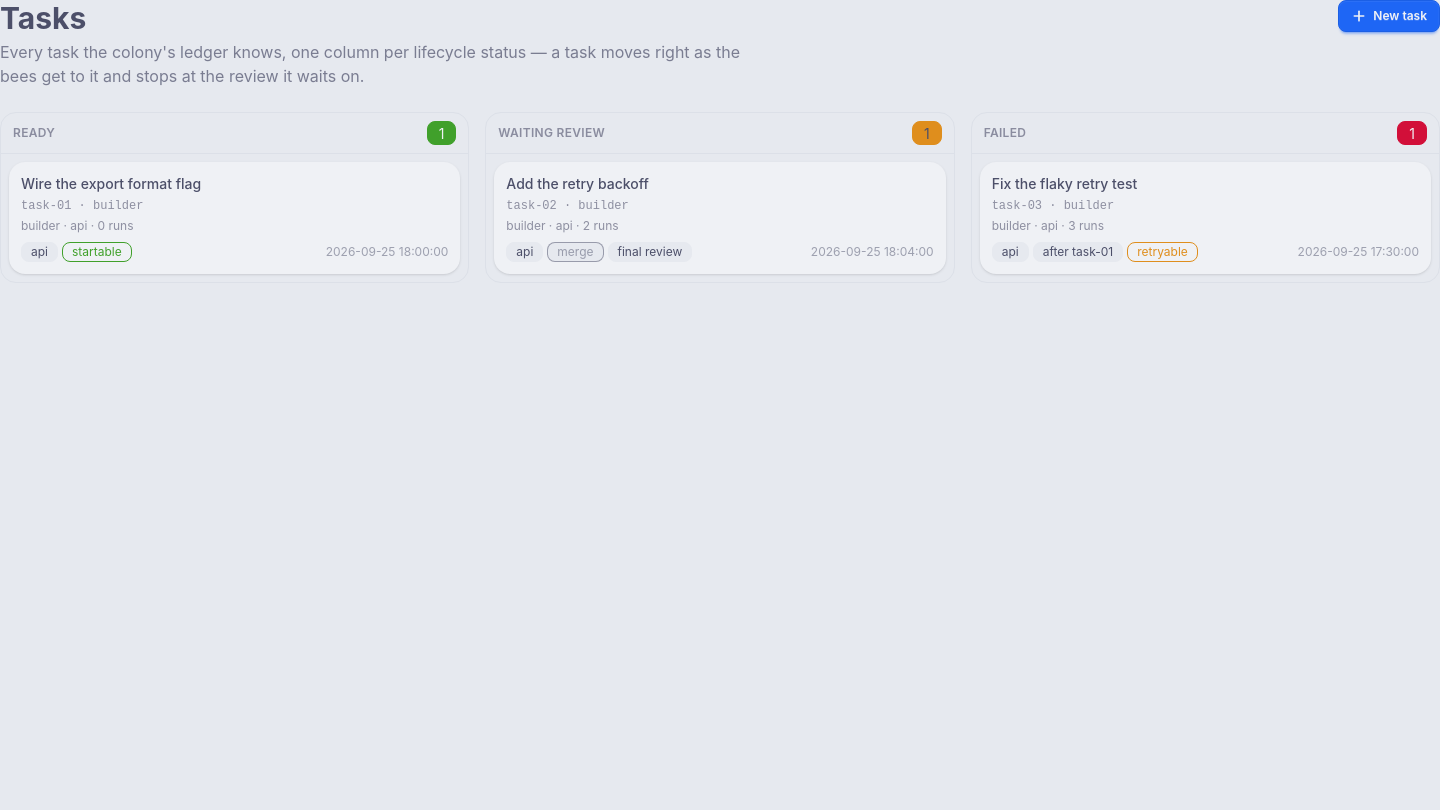
Test case: new task drawer › keeps Create disabled until a title or a body and a bee are both there
The width and height of the screenshot is (1440, 810).
Expected: the element named "ready tasks" is shown, top-left (0, 112), bottom-right (469, 283)
Click the button "New task": (1389, 16) top-left (1338, 0), bottom-right (1439, 32)
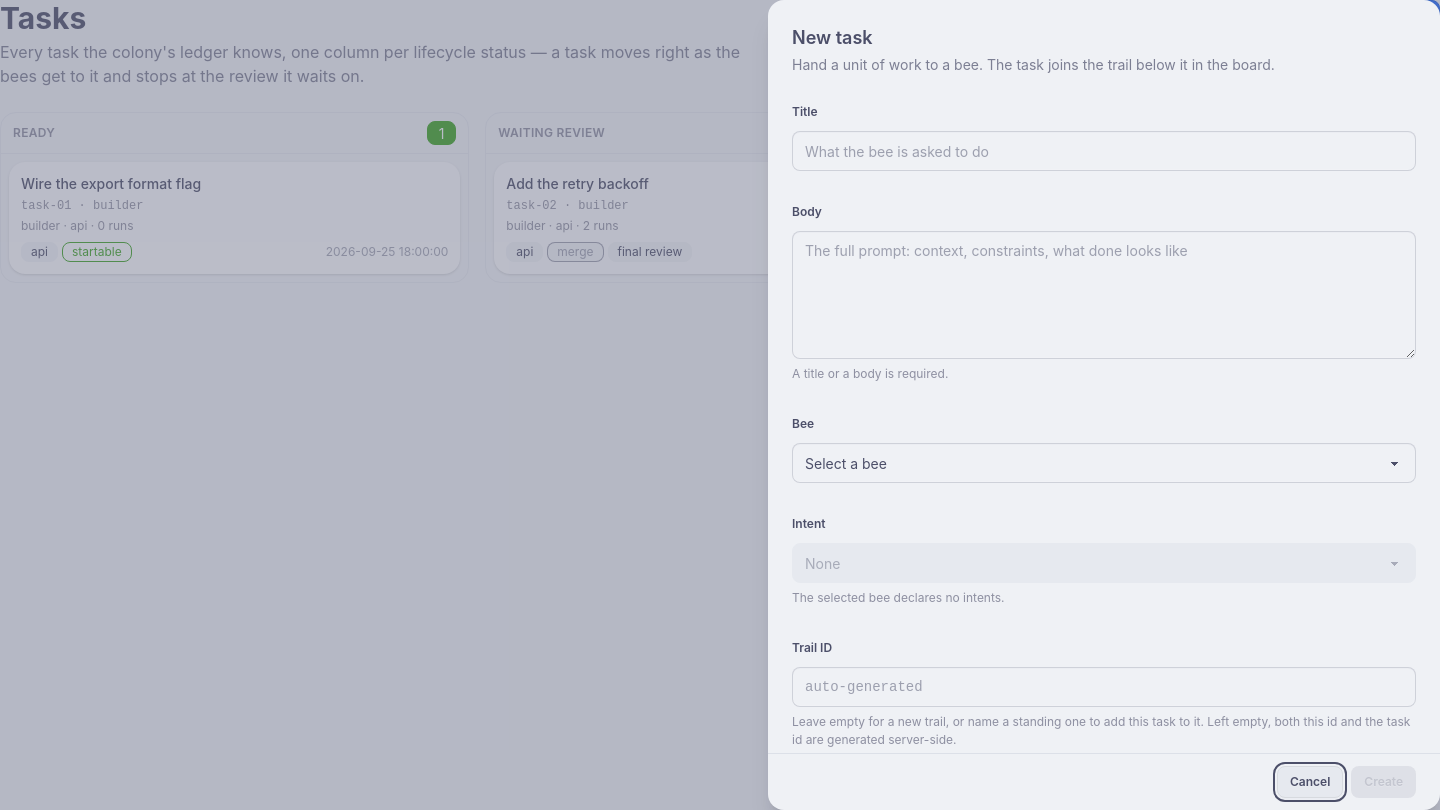
Result: the dialog labelled "New task" is shown at top-left (768, 0), bottom-right (1439, 809)
Result: the button "Create" is disabled at top-left (1351, 766), bottom-right (1416, 798)
In the field labelled "Title": (1104, 151) top-left (792, 131), bottom-right (1416, 171), type "Do the thing"
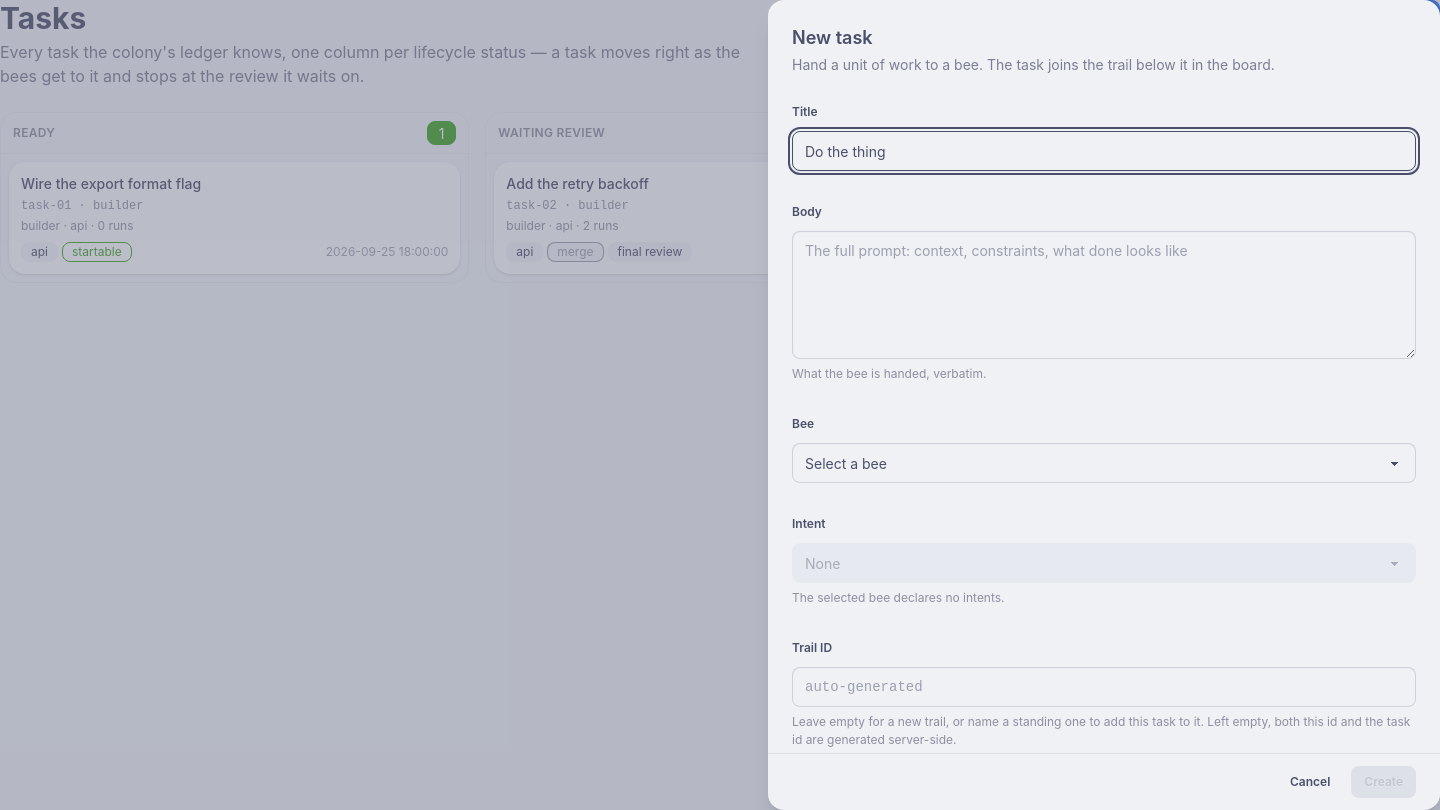
Result: the button "Create" is disabled at top-left (1351, 766), bottom-right (1416, 798)
Select "builder — cursor" in the dropdown labelled "Bee": (1104, 463) top-left (792, 443), bottom-right (1416, 483)
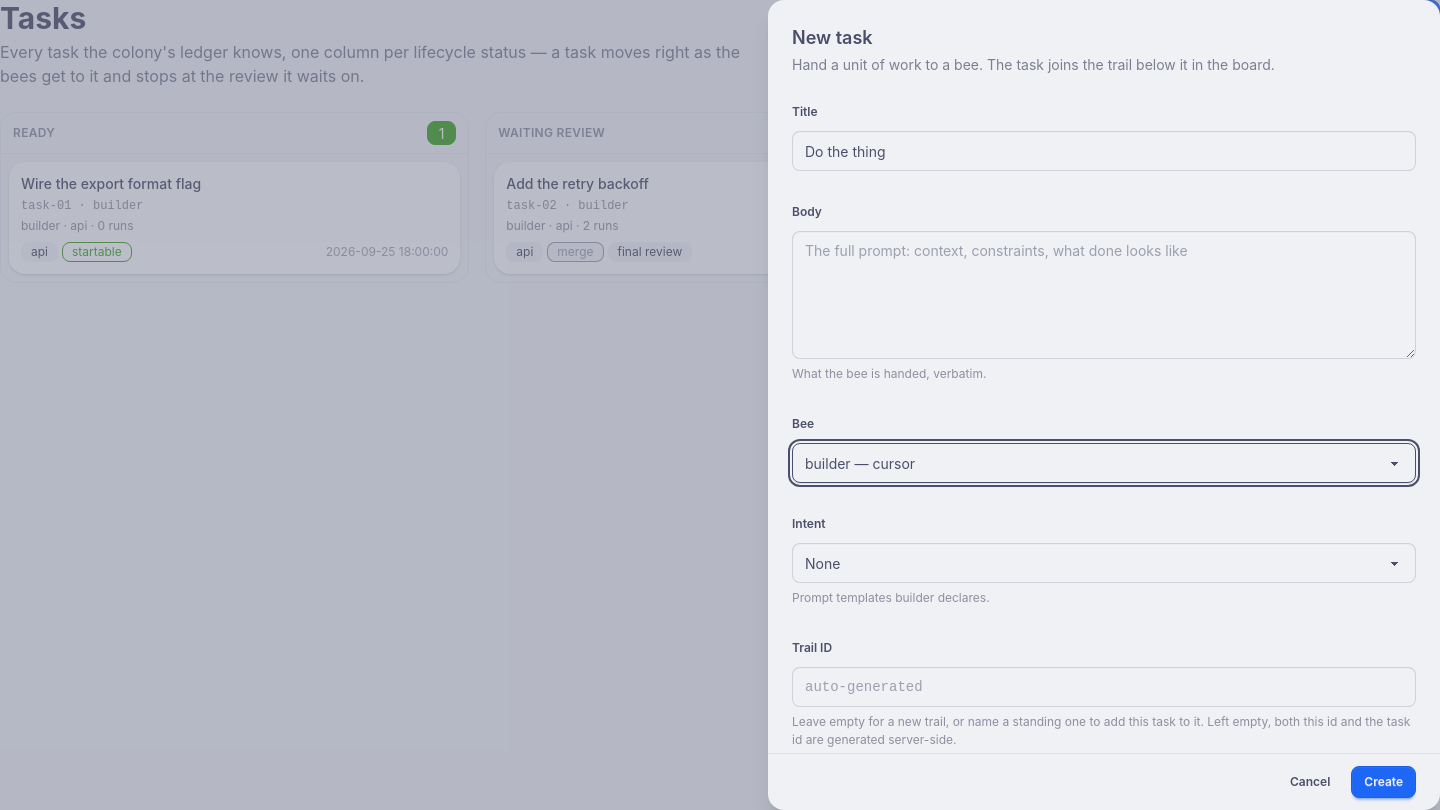
Result: the button "Create" is enabled at top-left (1351, 766), bottom-right (1416, 798)
